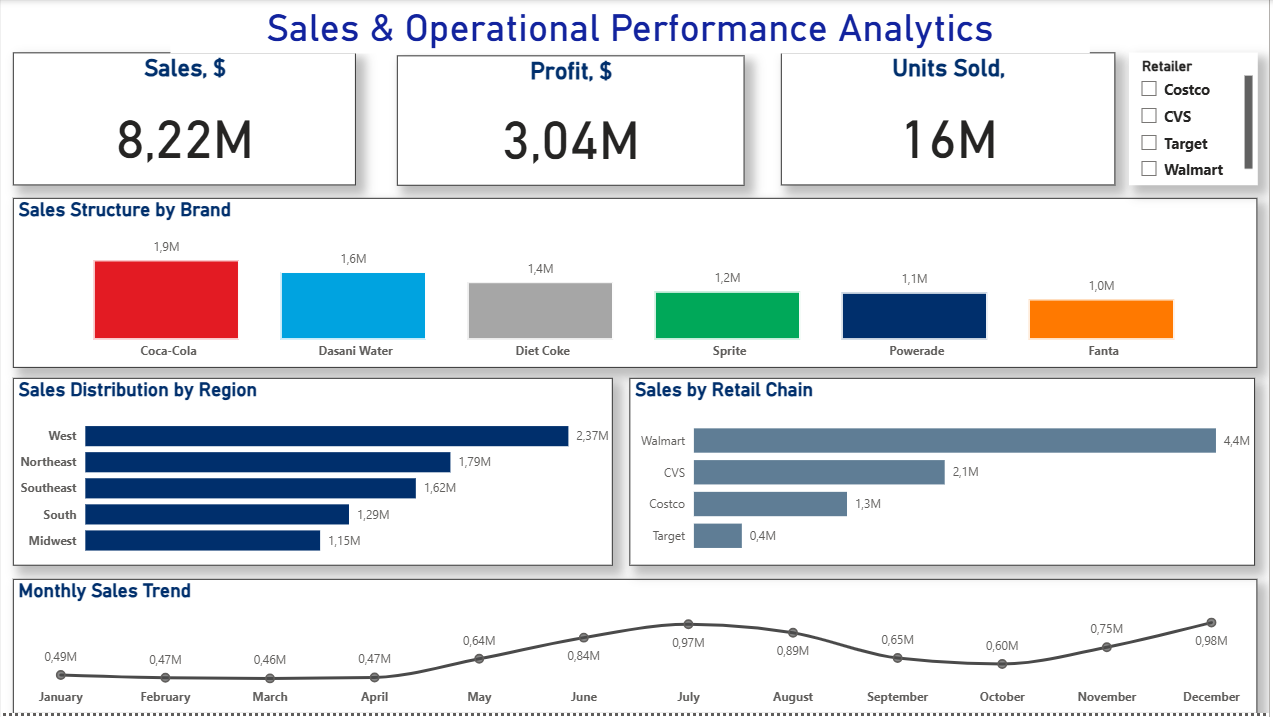

What the dashboard file says about the page in this screenshot:
{"tool":"powerbi","page":{"name":"Сторінка 1","canvas":[1280,720],"ordinal":0},"visuals":[{"type":"cardVisual","title":"Загальні продажі, $ млн","fields":{"Data":["Data.Загальні продажі"]},"box":[10.6,7.6,345.2,146.9],"z":0},{"type":"cardVisual","title":"Операційний прибуток, $ млн","fields":{"Data":["Data.Операційний прибуток"]},"box":[389.2,7.6,351.3,146.9],"z":1000},{"type":"cardVisual","title":"Продано одиниць, млн шт","fields":{"Data":["Data.Продано одиниць"]},"box":[760.1,7.6,351.3,146.9],"z":2000},{"type":"pieChart","title":"Структура продажів за брендами","fields":{"Category":["Data.Beverage Brand"],"Y":["Data.Загальні продажі"]},"box":[10.6,175.6,614.8,263.5],"z":3000},{"type":"barChart","title":"Розподіл продажів за регіонами","fields":{"Category":["Data.Region"],"Y":["Data.Загальні продажі"]},"box":[651.1,175.6,614.8,263.5],"z":4000},{"type":"slicer","fields":{"Values":["Data.Retailer"]},"box":[1137.2,9.1,128.7,146.9],"z":5000},{"type":"lineChart","title":"Динаміка продажів у часі","fields":{"Y":["Data.Загальні продажі"],"Category":["Data.Invoice Date"]},"box":[10.6,461.8,614.8,257.4],"z":6000},{"type":"columnChart","title":"Продажі в розрізі торгових мереж","fields":{"Category":["Data.Retailer"],"Y":["Data.Загальні продажі"]},"box":[651.1,461.8,614.8,257.4],"z":7000}]}

Visuals, with their boxes in screenshot pixels (x1, y1, x2, y2), scaled from the page's 1280x720 canvas onto the 1273x717 screenshot:
"Загальні продажі, $ млн" cardVisual: select_region(11, 8, 354, 154)
"Операційний прибуток, $ млн" cardVisual: select_region(387, 8, 736, 154)
"Продано одиниць, млн шт" cardVisual: select_region(756, 8, 1105, 154)
"Структура продажів за брендами" pieChart: select_region(11, 175, 622, 437)
"Розподіл продажів за регіонами" barChart: select_region(648, 175, 1259, 437)
slicer - Data.Retailer: select_region(1131, 9, 1259, 155)
"Динаміка продажів у часі" lineChart: select_region(11, 460, 622, 716)
"Продажі в розрізі торгових мереж" columnChart: select_region(648, 460, 1259, 716)
